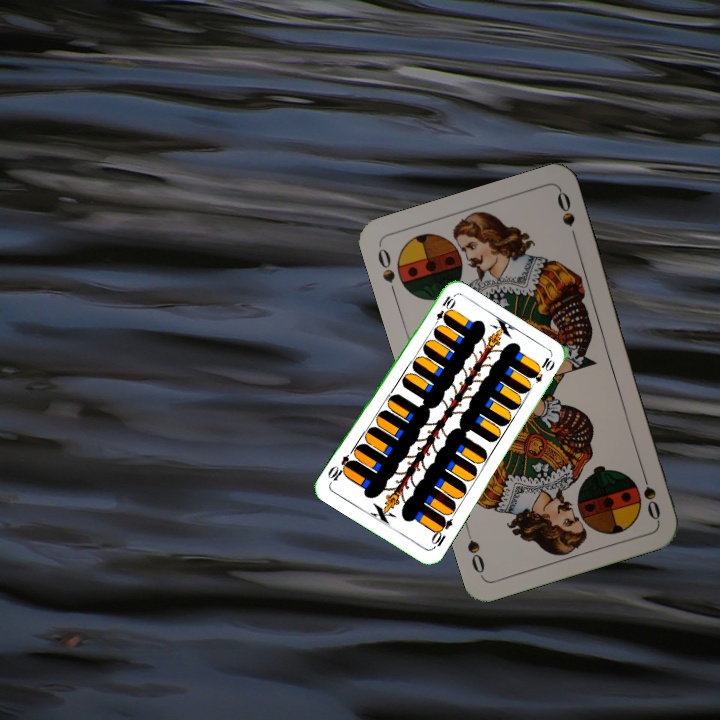E10: (427, 513, 455, 552), (429, 292, 457, 330)
SO: (373, 244, 400, 300), (637, 465, 663, 523)
